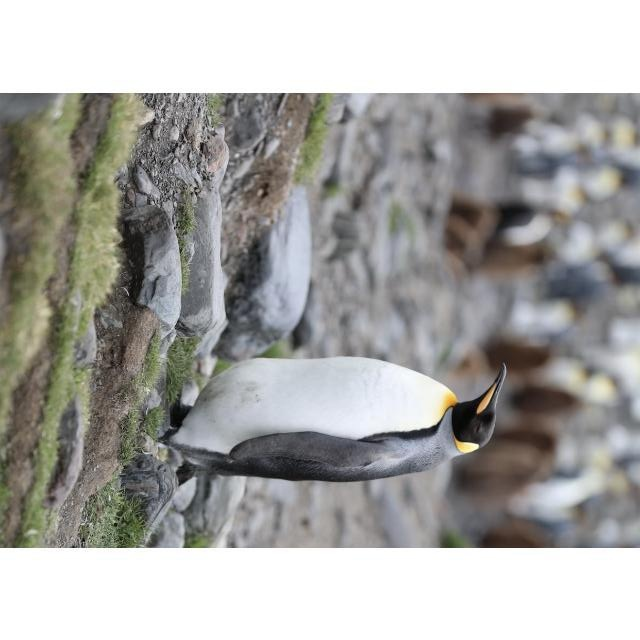penguin: (141, 353, 507, 489)
